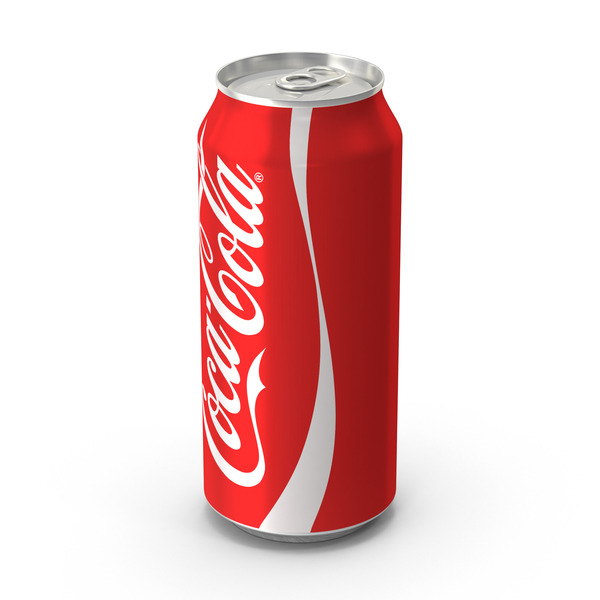coke: (198, 51, 401, 543)
